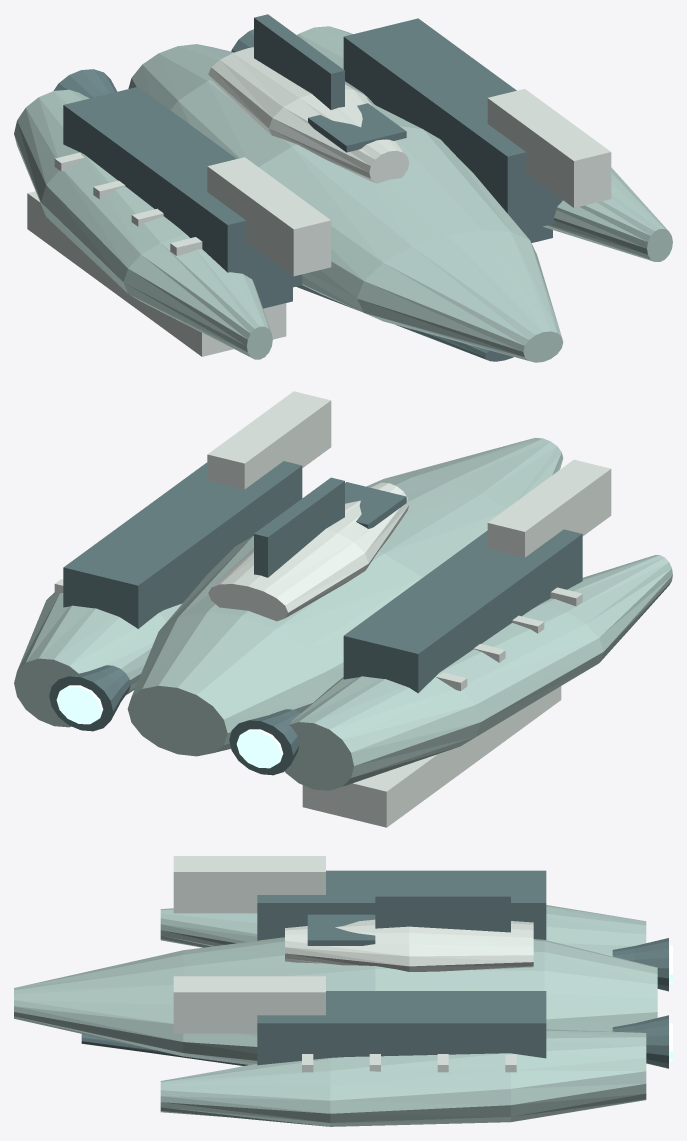
3 views of the same model, one above another, from view 1: azimuth 30°, elevation 25°; view 2: azimuth 150°, elevation 25°; view 3: azimuth 270°, elevation 25° (orthographic). The views are drawn at different scales.
Size of the model in its own units: 12.84 by 5.34 by 17.33.
